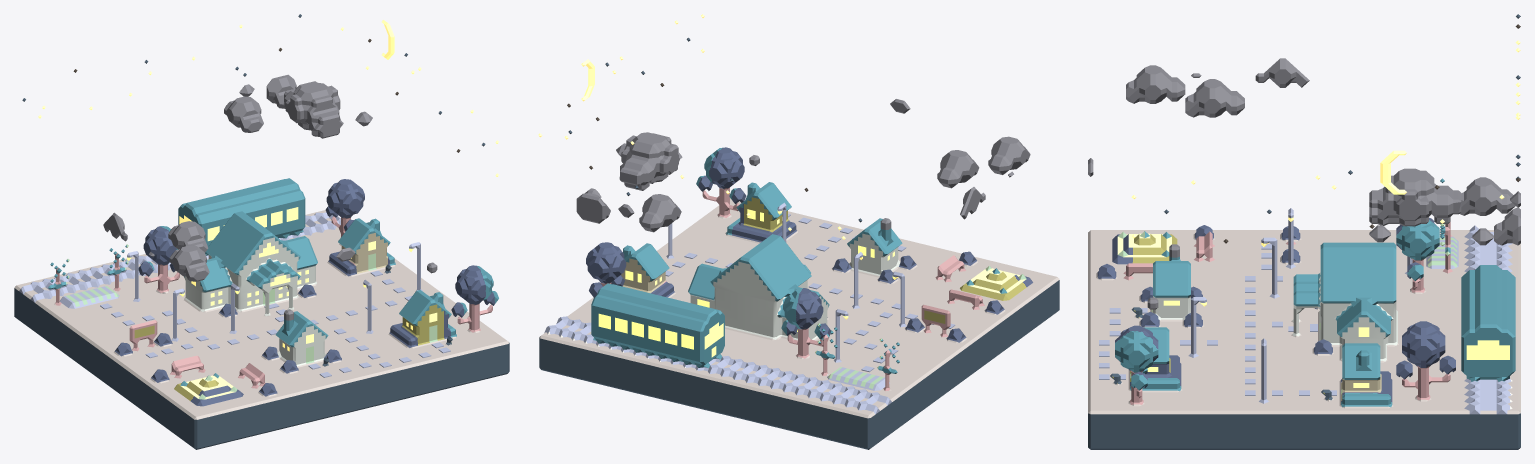
The picture shows the model from 3 angles, left to right: view 1: azimuth 30°, elevation 25°; view 2: azimuth 150°, elevation 25°; view 3: azimuth 270°, elevation 25°; orthographic projection. The views are drawn at different scales.
Parts seen in each view (by area): view 1: polySurface3269, polySurface3268, townhallroof, train_ext, townhall_main, polySurface2534 (×3), rrTracks, cloud_reduce60, polySurface2514 (×2), polySurface2516 (×2), polySurface2487, polySurface2313 (+8 smaller); view 2: polySurface3269, polySurface3268, train_ext, rrTracks, townhall_main, polySurface2534 (×3), townhallroof, cloud_reduce60, polySurface2516 (×2), polySurface2514 (×2), train_windows, polySurface3257 (+8 smaller); view 3: polySurface3269, polySurface3268, townhallroof, train_ext, polySurface2534 (×3), cloud_reduce60, rrTracks, townhall_main, polySurface2516 (×2), polySurface2508 (×2), polySurface2311, polySurface2487 (+14 smaller).
Part boxes in pixels (bbox=[...]): polySurface3269: bbox=[14, 210, 509, 419]; polySurface3268: bbox=[14, 288, 509, 449]; townhallroof: bbox=[184, 211, 317, 292]; train_ext: bbox=[178, 178, 305, 255]; townhall_main: bbox=[184, 237, 316, 316]; polySurface2534 (×3): bbox=[143, 179, 493, 304]; rrTracks: bbox=[19, 212, 340, 302]; cloud_reduce60: bbox=[284, 81, 343, 138]; polySurface2514 (×2): bbox=[341, 232, 448, 345]; polySurface2516 (×2): bbox=[338, 218, 451, 325]; polySurface2487: bbox=[169, 245, 209, 281]; polySurface2313: bbox=[224, 96, 263, 132]; polySurface3269: bbox=[539, 198, 1059, 418]; polySurface3268: bbox=[539, 280, 1059, 449]; train_ext: bbox=[591, 283, 724, 368]; rrTracks: bbox=[544, 316, 891, 414]; townhall_main: bbox=[690, 261, 828, 340]; polySurface2534 (×3): bbox=[586, 147, 823, 329]; townhallroof: bbox=[688, 234, 829, 317]; cloud_reduce60: bbox=[619, 132, 682, 190]; polySurface2516 (×2): bbox=[623, 182, 791, 280]; polySurface2514 (×2): bbox=[621, 197, 788, 293]; train_windows: bbox=[598, 313, 723, 357]; polySurface3257: bbox=[849, 233, 900, 276]; polySurface3269: bbox=[1088, 230, 1520, 414]; polySurface3268: bbox=[1088, 413, 1520, 449]; townhallroof: bbox=[1293, 242, 1396, 336]; train_ext: bbox=[1461, 265, 1515, 381]; polySurface2534 (×3): bbox=[1115, 217, 1445, 372]; cloud_reduce60: bbox=[1369, 168, 1461, 226]; rrTracks: bbox=[1464, 225, 1512, 414]; townhall_main: bbox=[1292, 272, 1397, 361]; polySurface2516 (×2): bbox=[1144, 327, 1380, 379]; polySurface2508 (×2): bbox=[1130, 355, 1392, 407]; polySurface2311: bbox=[1185, 79, 1244, 117]; polySurface2487: bbox=[1126, 65, 1185, 103].
Bounding box in the file's own units: 82 × 62 × 80.
Materials: 1 (1 with a texture image).
